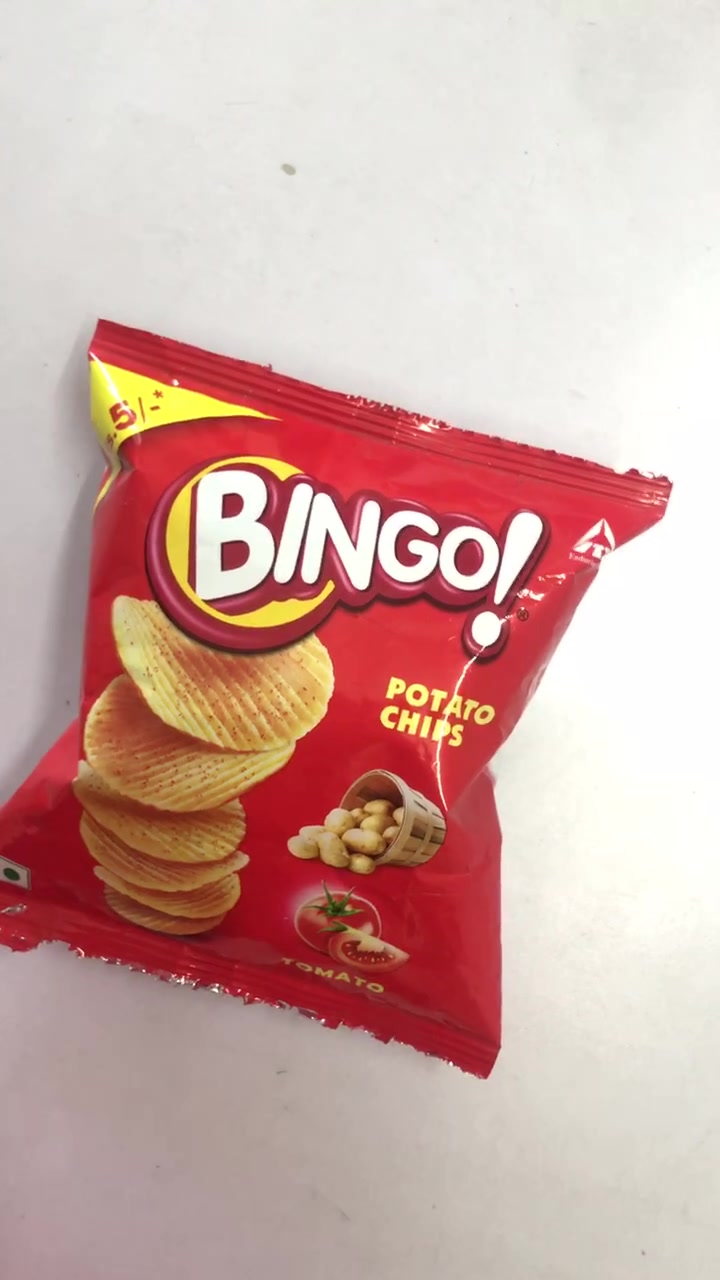Bingo: (6, 317, 673, 1070)
